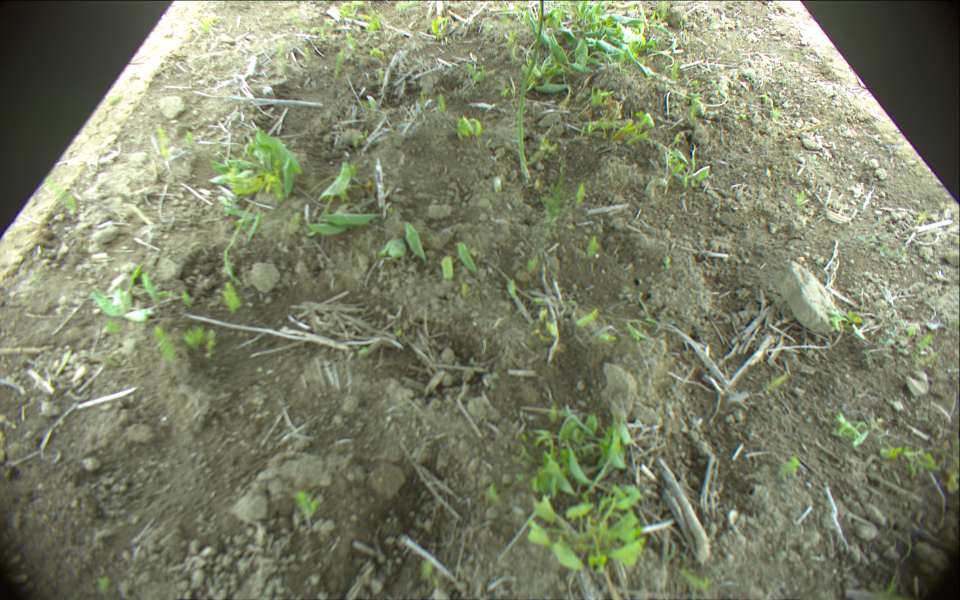aspa: (518, 1, 545, 179)
